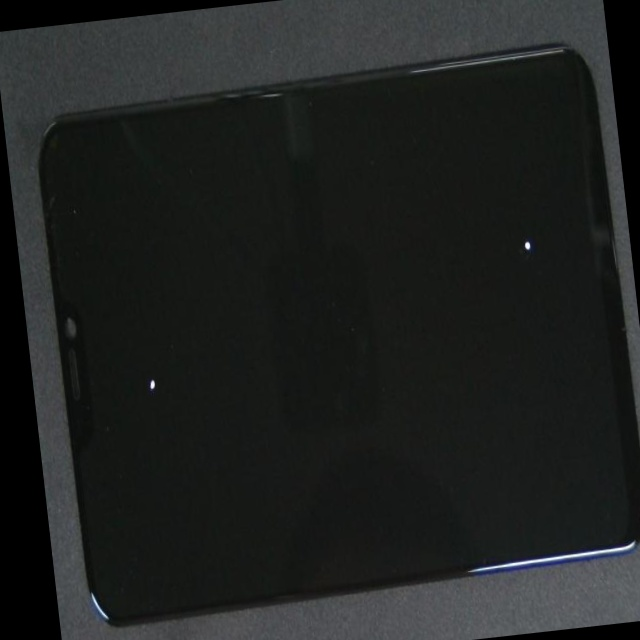stain: (260, 43, 640, 376), (92, 168, 221, 562)
